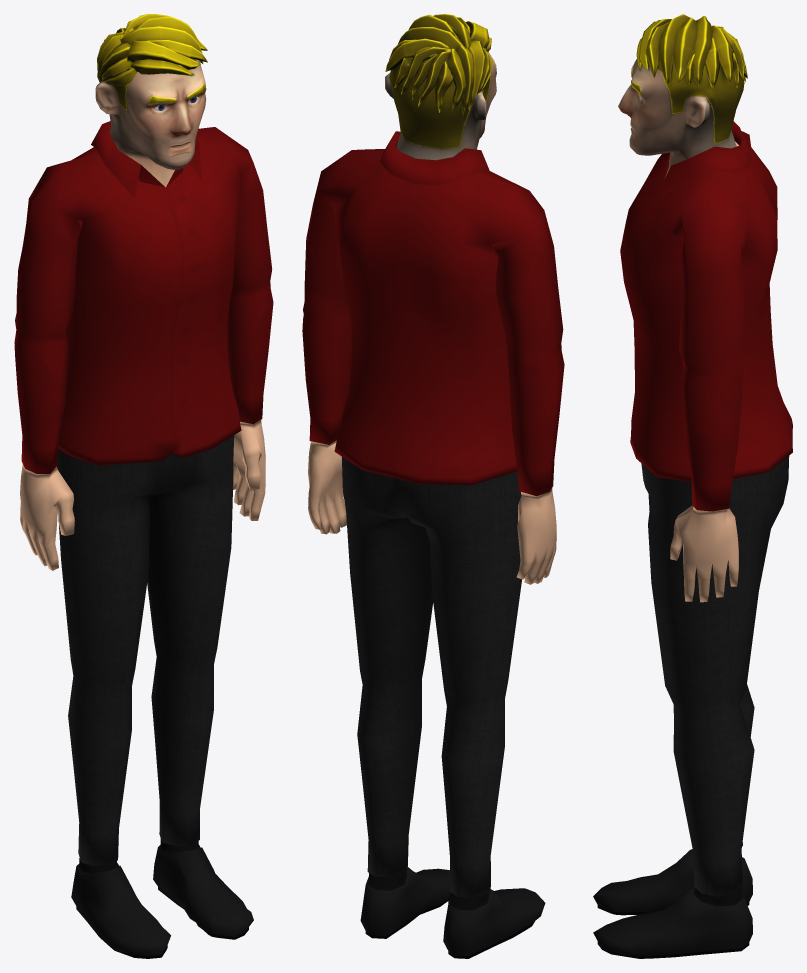
The model's file is person03.glb.
The picture shows the model from 3 angles, left to right: view 1: azimuth 30°, elevation 25°; view 2: azimuth 150°, elevation 25°; view 3: azimuth 270°, elevation 25°; orthographic projection.
Visible parts, largest first — view 1: M_lBody_BaseMesh.001; view 2: M_lBody_BaseMesh.001; view 3: M_lBody_BaseMesh.001.
Part boxes in pixels (x1,y1,x2,y2): M_lBody_BaseMesh.001: (14, 14, 273, 958); M_lBody_BaseMesh.001: (302, 14, 564, 958); M_lBody_BaseMesh.001: (593, 14, 792, 958).
Size of the model in its own units: 0.544 by 1.87 by 0.372.
Materials: 2 (2 with a texture image).
